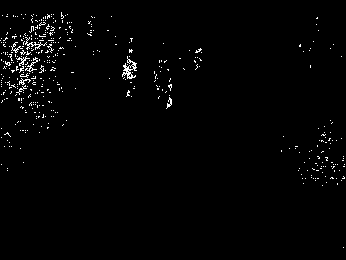person: (120, 47, 139, 100)
q: (152, 58, 175, 109)
